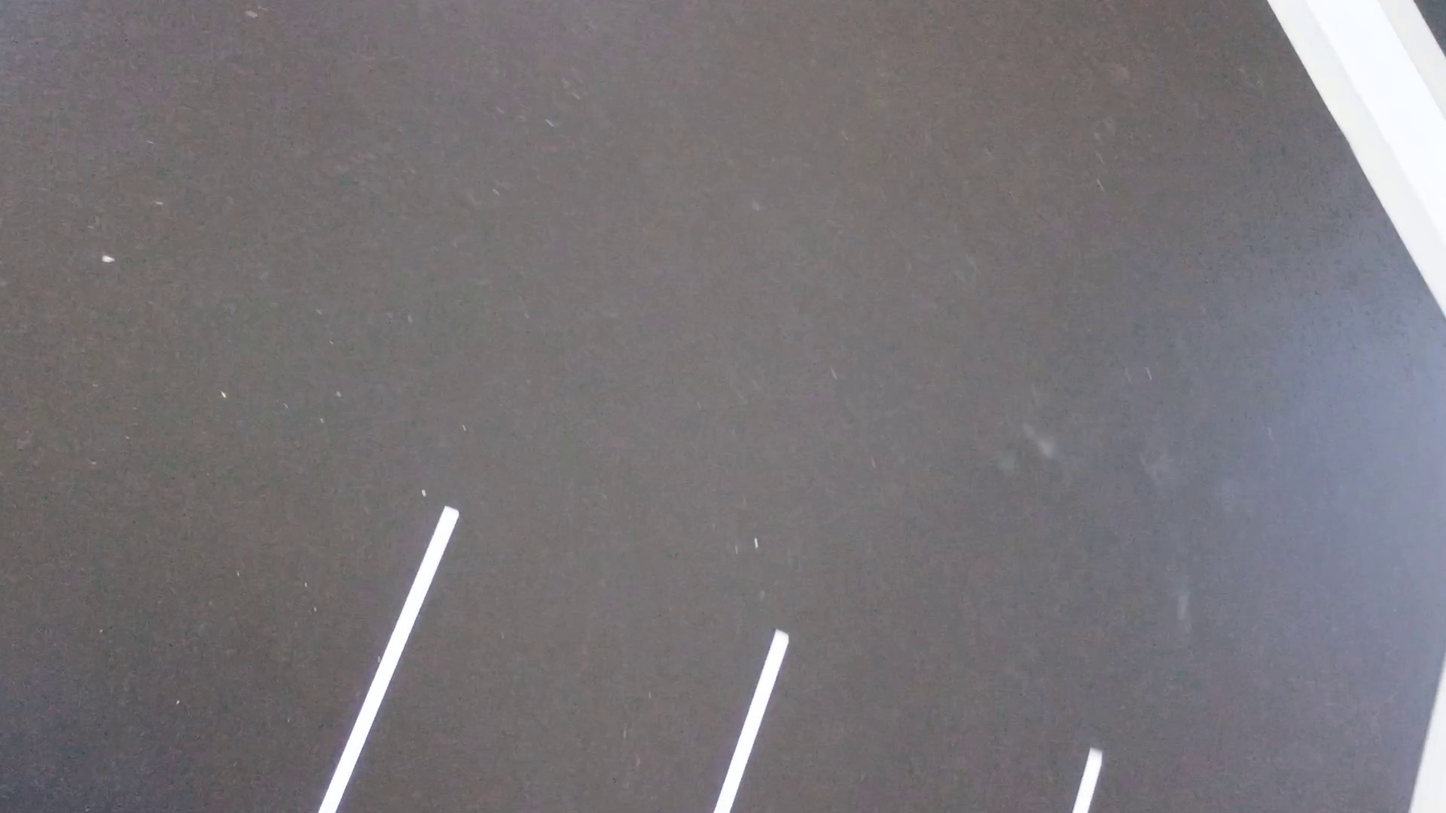Solid: (319, 507, 459, 812), (713, 630, 789, 812), (1072, 748, 1102, 812)
Street: (0, 0, 1445, 812), (1415, 0, 1445, 53)
